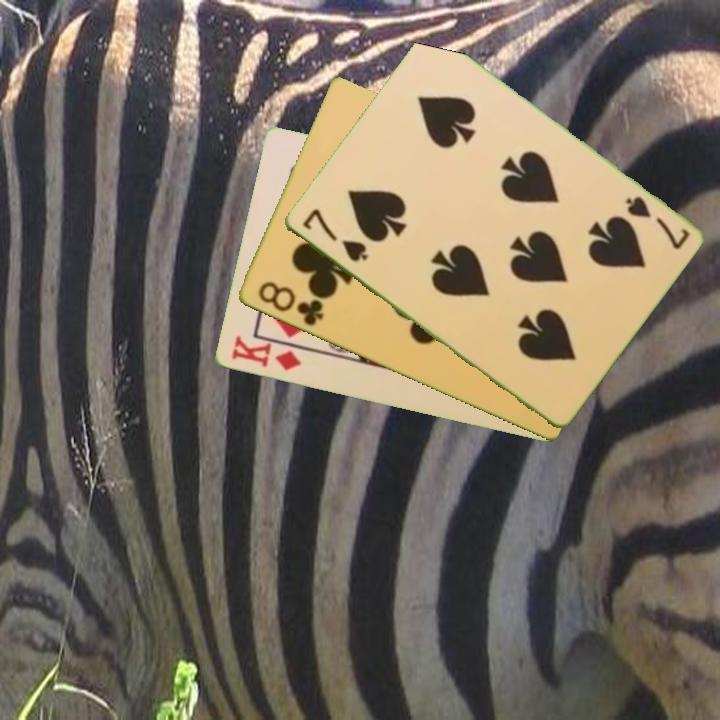7s: (298, 205, 371, 265), (621, 193, 692, 253)
8c: (254, 278, 326, 330)
Kd: (227, 332, 304, 374)
